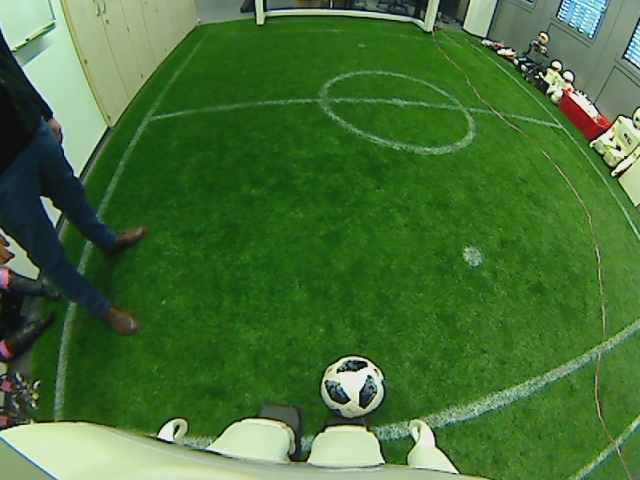ball: (318, 356, 386, 417)
